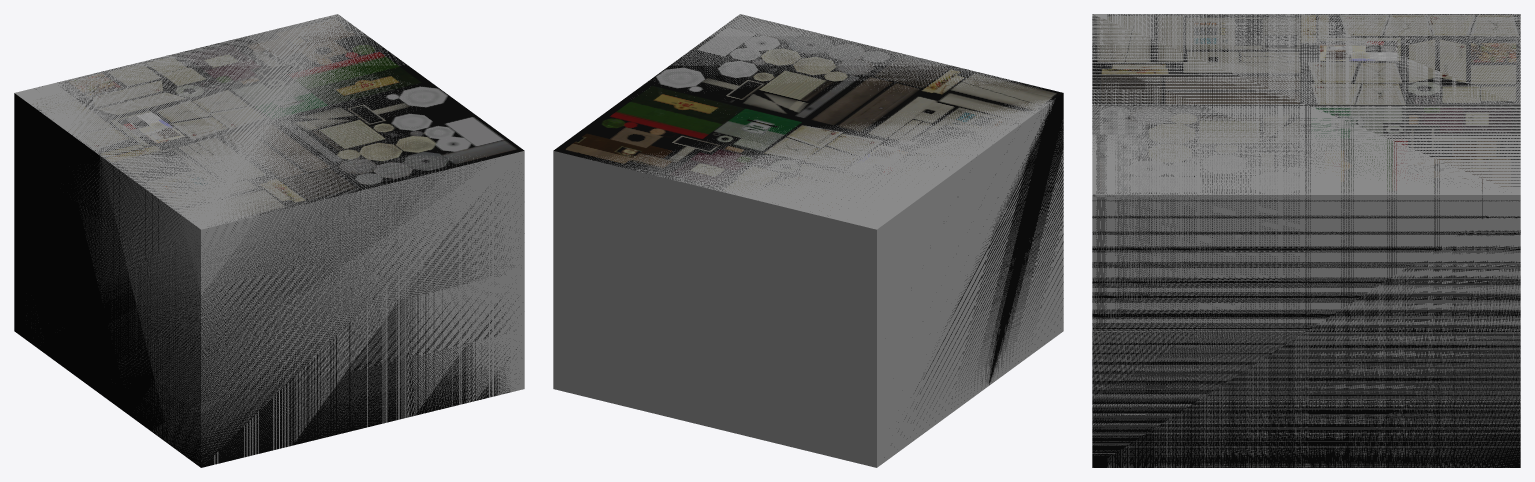
File: plate_stack_01.FBX
3 renders of one model, left to right at view 1: azimuth 30°, elevation 25°; view 2: azimuth 150°, elevation 25°; view 3: azimuth 270°, elevation 25°, orthographic. The views are drawn at different scales.
Parts seen in each view (by area): view 1: bounds, colbox-1; view 2: bounds, colbox-1; view 3: bounds, colbox-1.
Boxes of the visible parts, bbox=[...] form: bounds: bbox=[15, 14, 524, 464]; colbox-1: bbox=[14, 15, 524, 467]; bounds: bbox=[553, 14, 1063, 467]; colbox-1: bbox=[553, 15, 1063, 457]; bounds: bbox=[1092, 14, 1520, 467]; colbox-1: bbox=[1092, 14, 1520, 467].
Bounding box in the file's own units: 37.09 × 26.1 × 37.1.
